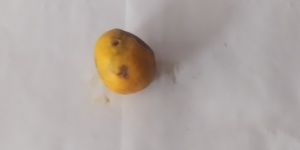BAD: (94, 29, 156, 95)
